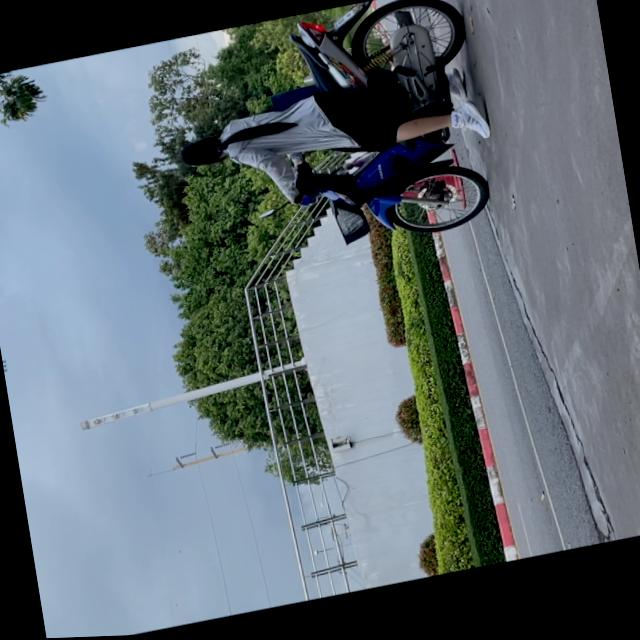seatbelt: (178, 135, 228, 171)
